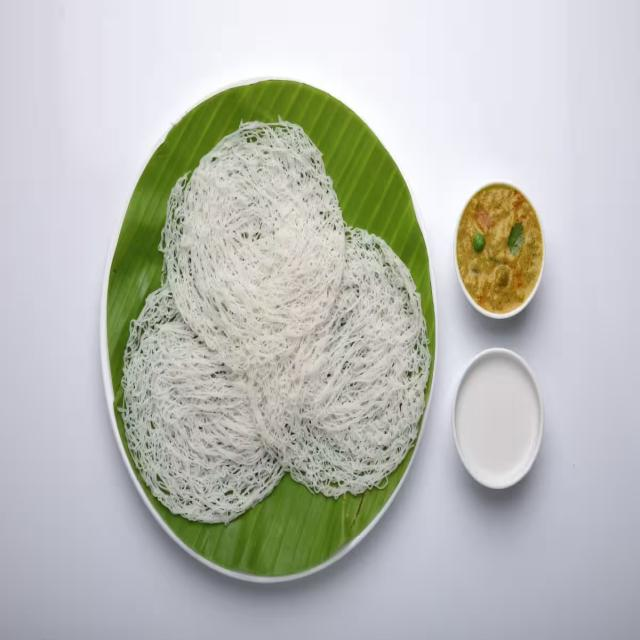CURRY: (457, 183, 544, 311)
IDIYAPPAM: (117, 117, 434, 531)
SWEET: (451, 353, 542, 489)
